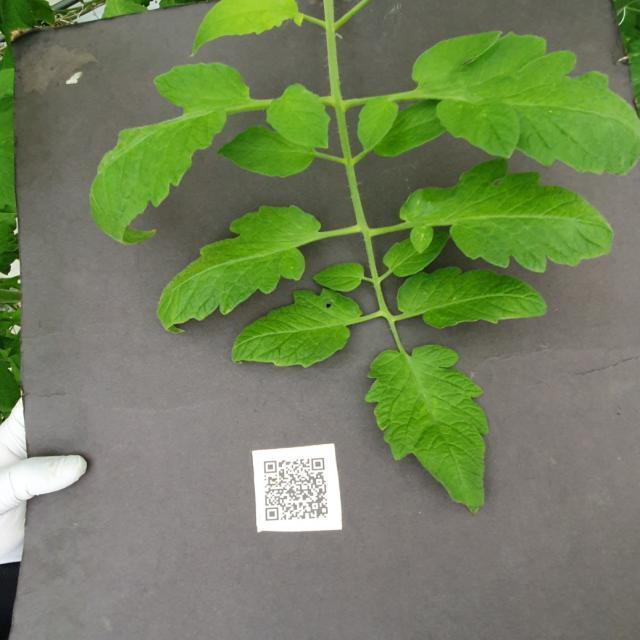Healthy: (409, 29, 640, 177), (89, 61, 252, 247), (399, 158, 617, 274), (363, 344, 491, 518), (156, 204, 322, 335), (229, 288, 360, 371), (395, 266, 550, 332), (266, 84, 332, 152), (382, 230, 451, 278), (354, 96, 399, 153)
